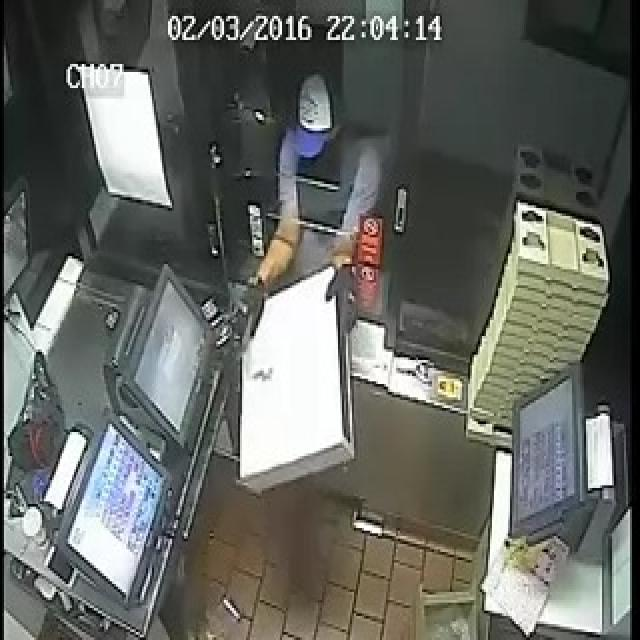thief: (289, 88, 398, 272)
